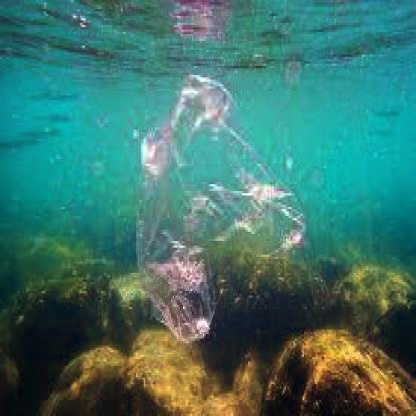pbag: (132, 71, 310, 350)
